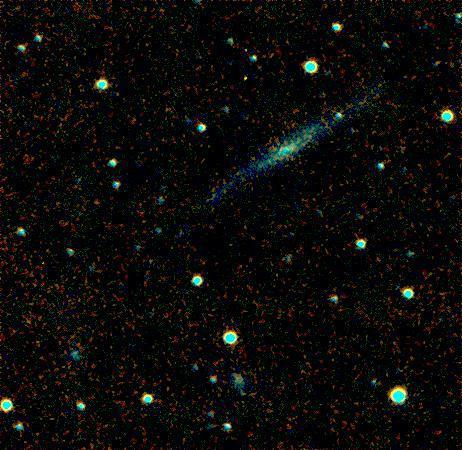star: (82, 187, 112, 217)
